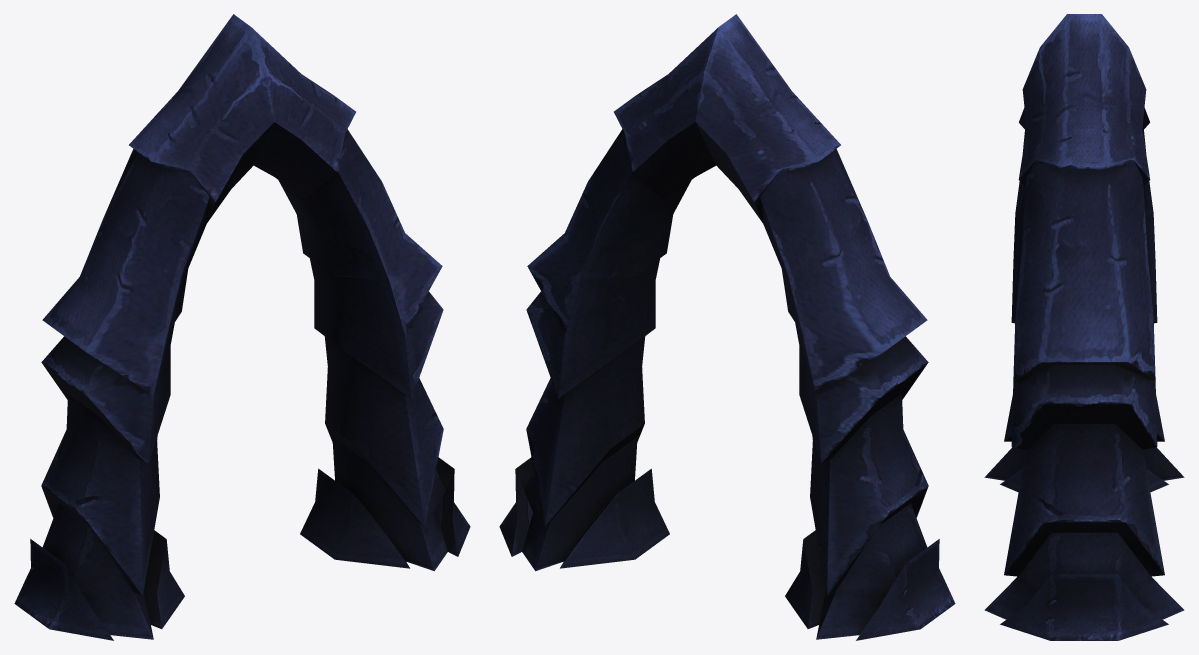
File: palace_arch_01.fbx
3 renders of one model, left to right at view 1: azimuth 30°, elevation 25°; view 2: azimuth 150°, elevation 25°; view 3: azimuth 270°, elevation 25°, orthographic. The views are drawn at different scales.
Visible parts, largest first — view 1: palace_tileset/palace_arch01_mat; view 2: palace_tileset/palace_arch01_mat; view 3: palace_tileset/palace_arch01_mat.
Part boxes in pixels (x1,y1,x2,y2): palace_tileset/palace_arch01_mat: (14,14,470,640); palace_tileset/palace_arch01_mat: (499,14,955,640); palace_tileset/palace_arch01_mat: (984,14,1184,640).
Bounding box in the file's own units: 7.49 × 9.3 × 3.19.
